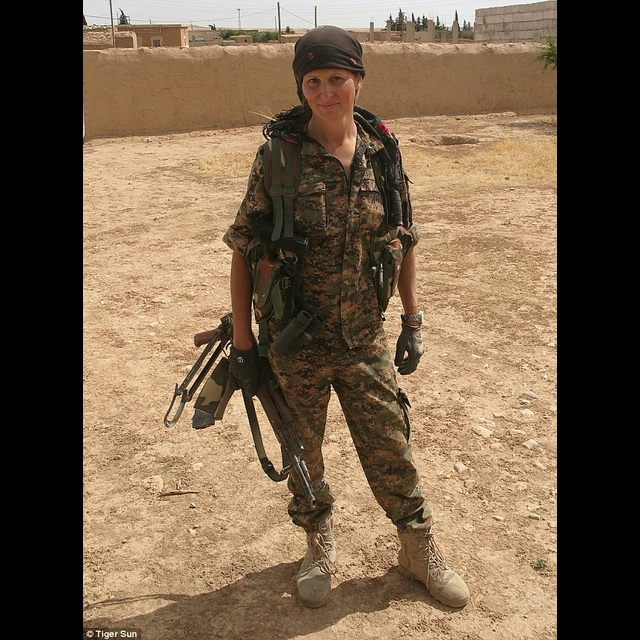AK47: (221, 355, 319, 514)
